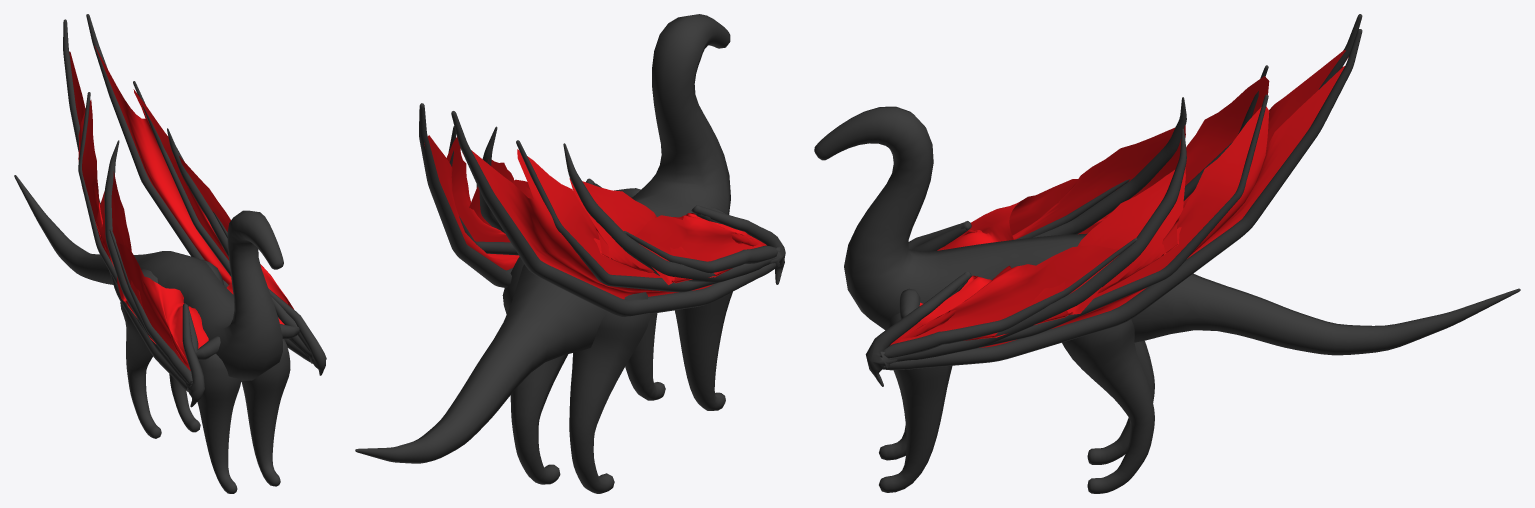
Rendered from DragonPlaceholder1.fbx.
The picture shows the model from 3 angles, left to right: view 1: azimuth 30°, elevation 25°; view 2: azimuth 150°, elevation 25°; view 3: azimuth 270°, elevation 25°; orthographic projection. The views are drawn at different scales.
Parts seen in each view (by area): view 1: Dragon.001; view 2: Dragon.001; view 3: Dragon.001.
Part boxes in pixels (box(x1,y1,x2,y2)): Dragon.001: box(14, 14, 326, 493); Dragon.001: box(355, 14, 785, 493); Dragon.001: box(814, 14, 1520, 493).
Bounding box in the file's own units: 413 × 1012 × 1408.
